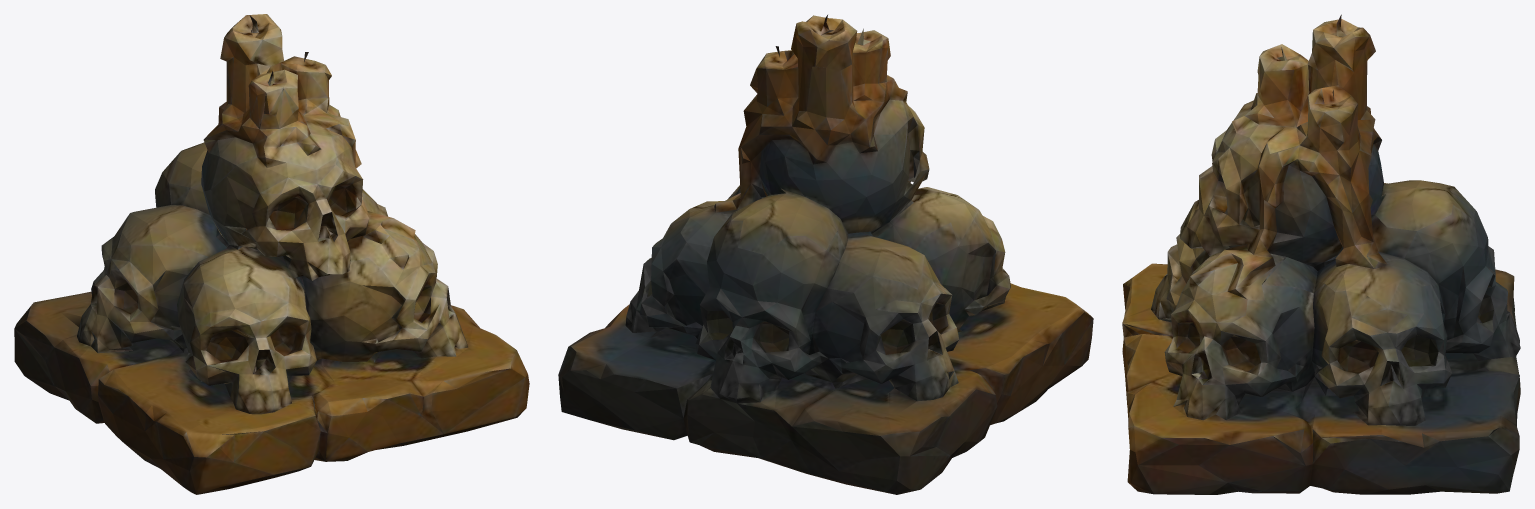
Rendered from skull_pile.glb.
The picture shows the model from 3 angles, left to right: view 1: azimuth 30°, elevation 25°; view 2: azimuth 150°, elevation 25°; view 3: azimuth 270°, elevation 25°; orthographic projection. The views are drawn at different scales.
Parts seen in each view (by area): view 1: tripo_node_8a730f50-3e27-44f8-8136-74ac5a1c28f1.001; view 2: tripo_node_8a730f50-3e27-44f8-8136-74ac5a1c28f1.001; view 3: tripo_node_8a730f50-3e27-44f8-8136-74ac5a1c28f1.001.
Boxes of the visible parts, bbox=[...] form: tripo_node_8a730f50-3e27-44f8-8136-74ac5a1c28f1.001: bbox=[14, 14, 529, 494]; tripo_node_8a730f50-3e27-44f8-8136-74ac5a1c28f1.001: bbox=[558, 15, 1093, 494]; tripo_node_8a730f50-3e27-44f8-8136-74ac5a1c28f1.001: bbox=[1122, 14, 1520, 494].
Bounding box in the file's own units: 0.9442 × 0.9761 × 0.9.
Materials: 1 (1 with a texture image).
